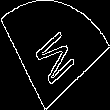M_SW: (30, 21, 80, 89)
